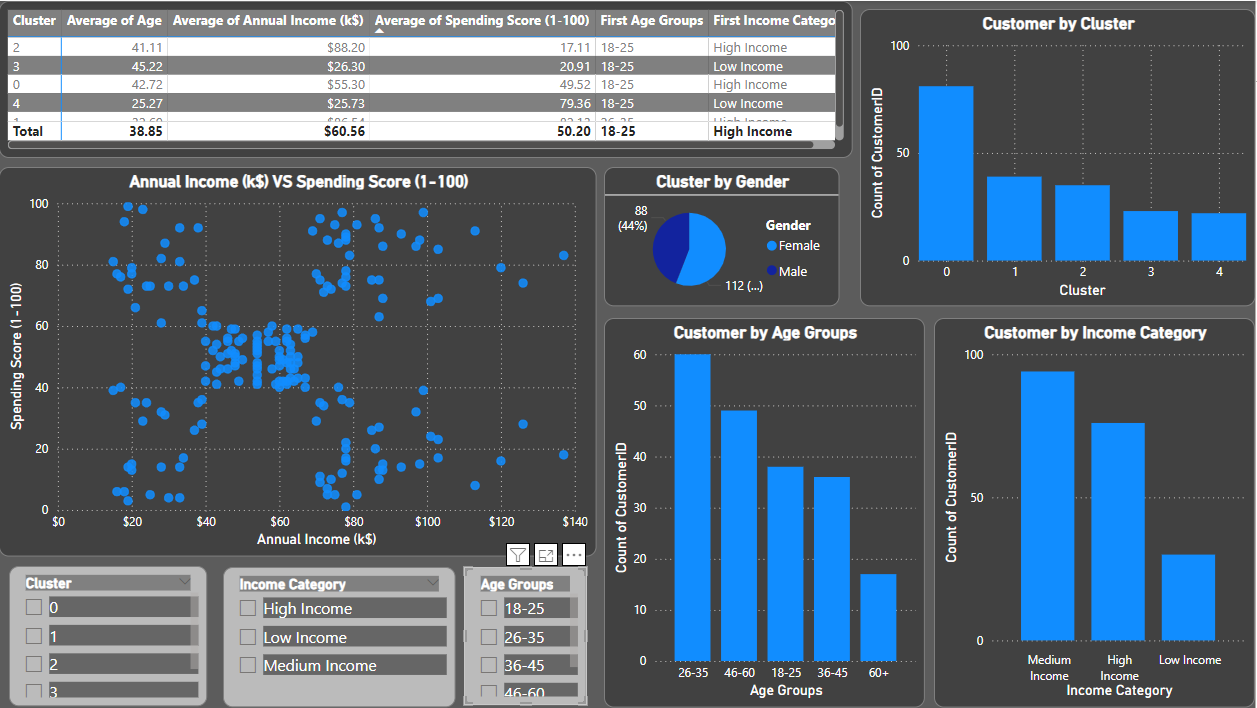

The dashboard page shown, as its layout file describes it:
{"tool":"powerbi","page":{"name":"Page 1","canvas":[1280,720],"ordinal":0},"visuals":[{"type":"clusteredColumnChart","title":"Customer by Cluster","fields":{"Category":["Mall_Customer_Groups.Cluster"],"Y":["CountNonNull(Mall_Customer_Groups.CustomerID)"]},"box":[877.5,7.9,402.5,303.4],"z":0},{"type":"pieChart","title":" Cluster by Gender","fields":{"Y":["CountNonNull(Mall_Customer_Groups.Cluster)"],"Series":["Mall_Customer_Groups.Gender"]},"box":[616.7,169.5,239.9,141.8],"z":1000},{"type":"columnChart","title":"Customer by Income Category","fields":{"Category":["Mall_Customer_Groups.Income Category"],"Y":["CountNonNull(Mall_Customer_Groups.CustomerID)"]},"box":[952.8,323.2,327.2,396.6],"z":2000},{"type":"columnChart","title":"Customer by Age Groups","fields":{"Category":["Mall_Customer_Groups.Age Groups"],"Y":["CountNonNull(Mall_Customer_Groups.CustomerID)"]},"box":[616.7,323.2,327.2,396.6],"z":3000},{"type":"scatterChart","title":"Annual Income (k$) VS Spending Score (1-100)","fields":{"X":["Mall_Customer_Groups.Annual Income (k$)"],"Y":["Mall_Customer_Groups.Spending Score (1-100)"]},"box":[0,169.5,608.8,396.6],"z":4000},{"type":"pivotTable","title":"Cluster Profile","fields":{"Rows":["Mall_Customer_Groups.Cluster"],"Values":["Avg(Mall_Customer_Groups.Age)","Avg(Mall_Customer_Groups.Annual Income (k$))","Avg(Mall_Customer_Groups.Spending Score (1-100))","Min(Mall_Customer_Groups.Age Groups)","Min(Mall_Customer_Groups.Income Category)"]},"box":[0,0,869.5,159.6],"z":5000},{"type":"slicer","fields":{"Values":["Mall_Customer_Groups.Cluster"]},"box":[9.9,576,202.3,142.8],"z":6000},{"type":"slicer","fields":{"Values":["Mall_Customer_Groups.Income Category"]},"box":[228,577,237,142.8],"z":6001},{"type":"slicer","fields":{"Values":["Mall_Customer_Groups.Age Groups"]},"box":[473.9,577,124.9,140.8],"z":6002}]}

Visuals, with their boxes in screenshot pixels (x1, y1, x2, y2), scaled from the page's 1280x720 canvas onto the 1257x708 screenshot:
"Customer by Cluster" clusteredColumnChart: box=[862, 8, 1256, 306]
" Cluster by Gender" pieChart: box=[606, 167, 841, 306]
"Customer by Income Category" columnChart: box=[936, 318, 1256, 707]
"Customer by Age Groups" columnChart: box=[606, 318, 927, 707]
"Annual Income (k$) VS Spending Score (1-100)" scatterChart: box=[0, 167, 598, 557]
"Cluster Profile" pivotTable: box=[0, 0, 854, 157]
slicer - Mall_Customer_Groups.Cluster: box=[10, 566, 208, 707]
slicer - Mall_Customer_Groups.Income Category: box=[224, 567, 457, 707]
slicer - Mall_Customer_Groups.Age Groups: box=[465, 567, 588, 706]
